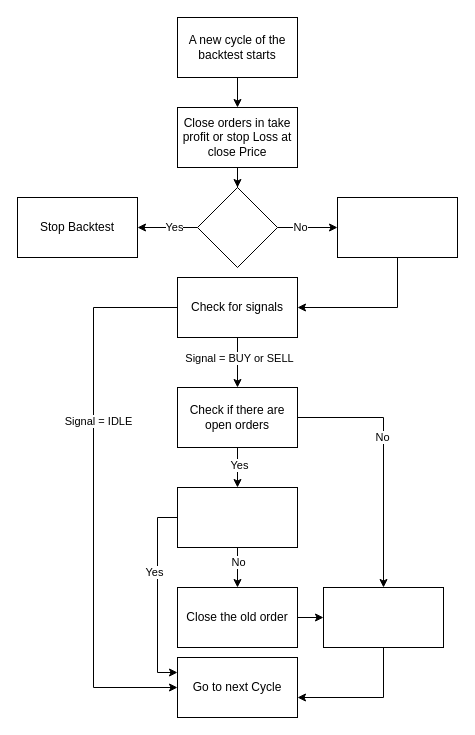
Some shapes in this 475 by 735 pixel diagram are drawn without their labels. Each missing label, with the box of its shape:
Check if the order is the same type of the signal: (176, 486, 298, 548)
Continue Backtesting: (336, 196, 458, 258)
If Portfolio Value <0: (196, 186, 278, 268)
Open New Order that is in line with the new signal: (322, 586, 444, 648)
